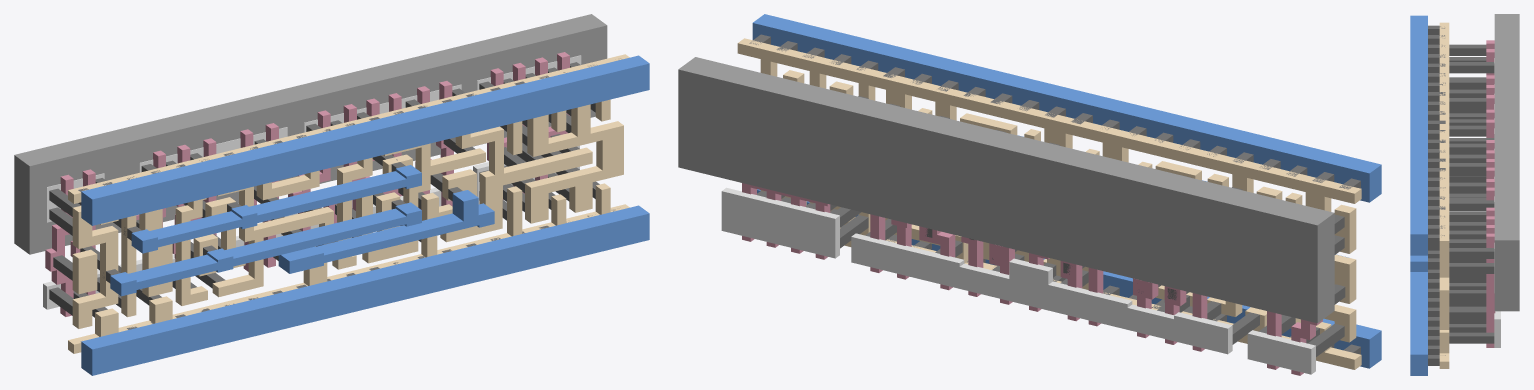
Rendered from sky130_fd_sc_hd__dfrtp_4.gds.gltf.
3 views of the same model, side by side, from view 1: azimuth 30°, elevation 25°; view 2: azimuth 150°, elevation 25°; view 3: azimuth 270°, elevation 25° (orthographic). The views are drawn at different scales.
Visible parts, largest first — view 1: sky130_fd_sc_hd__dfrtp_4_met1, sky130_fd_sc_hd__dfrtp_4_li1, sky130_fd_sc_hd__dfrtp_4_nwell, sky130_fd_sc_hd__dfrtp_4_poly, sky130_fd_sc_hd__dfrtp_4_licon, sky130_fd_sc_hd__dfrtp_4_diff, sky130_fd_sc_hd__dfrtp_4_mcon; view 2: sky130_fd_sc_hd__dfrtp_4_nwell, sky130_fd_sc_hd__dfrtp_4_li1, sky130_fd_sc_hd__dfrtp_4_diff, sky130_fd_sc_hd__dfrtp_4_met1, sky130_fd_sc_hd__dfrtp_4_poly, sky130_fd_sc_hd__dfrtp_4_licon, sky130_fd_sc_hd__dfrtp_4_mcon; view 3: sky130_fd_sc_hd__dfrtp_4_licon, sky130_fd_sc_hd__dfrtp_4_nwell, sky130_fd_sc_hd__dfrtp_4_met1, sky130_fd_sc_hd__dfrtp_4_mcon, sky130_fd_sc_hd__dfrtp_4_li1, sky130_fd_sc_hd__dfrtp_4_poly, sky130_fd_sc_hd__dfrtp_4_diff.
Boxes of the visible parts, x1=… form: sky130_fd_sc_hd__dfrtp_4_met1: x1=81, y1=55, x2=649, y2=375; sky130_fd_sc_hd__dfrtp_4_li1: x1=68, y1=54, x2=629, y2=353; sky130_fd_sc_hd__dfrtp_4_nwell: x1=14, y1=14, x2=607, y2=254; sky130_fd_sc_hd__dfrtp_4_poly: x1=45, y1=52, x2=569, y2=316; sky130_fd_sc_hd__dfrtp_4_licon: x1=49, y1=62, x2=599, y2=317; sky130_fd_sc_hd__dfrtp_4_diff: x1=43, y1=55, x2=581, y2=309; sky130_fd_sc_hd__dfrtp_4_mcon: x1=78, y1=58, x2=620, y2=341; sky130_fd_sc_hd__dfrtp_4_nwell: x1=678, y1=57, x2=1334, y2=323; sky130_fd_sc_hd__dfrtp_4_li1: x1=737, y1=38, x2=1361, y2=369; sky130_fd_sc_hd__dfrtp_4_diff: x1=721, y1=187, x2=1315, y2=374; sky130_fd_sc_hd__dfrtp_4_met1: x1=752, y1=14, x2=1381, y2=368; sky130_fd_sc_hd__dfrtp_4_poly: x1=742, y1=183, x2=1322, y2=375; sky130_fd_sc_hd__dfrtp_4_licon: x1=757, y1=96, x2=1345, y2=356; sky130_fd_sc_hd__dfrtp_4_mcon: x1=749, y1=34, x2=1360, y2=354; sky130_fd_sc_hd__dfrtp_4_licon: x1=1449, y1=44, x2=1494, y2=343; sky130_fd_sc_hd__dfrtp_4_nwell: x1=1494, y1=14, x2=1519, y2=311; sky130_fd_sc_hd__dfrtp_4_met1: x1=1410, y1=15, x2=1427, y2=375; sky130_fd_sc_hd__dfrtp_4_mcon: x1=1428, y1=25, x2=1445, y2=365; sky130_fd_sc_hd__dfrtp_4_li1: x1=1439, y1=22, x2=1449, y2=368; sky130_fd_sc_hd__dfrtp_4_poly: x1=1486, y1=40, x2=1495, y2=347; sky130_fd_sc_hd__dfrtp_4_diff: x1=1494, y1=58, x2=1500, y2=347.
Bounding box in the file's own units: 10.96 × 3.2 × 2.24.
